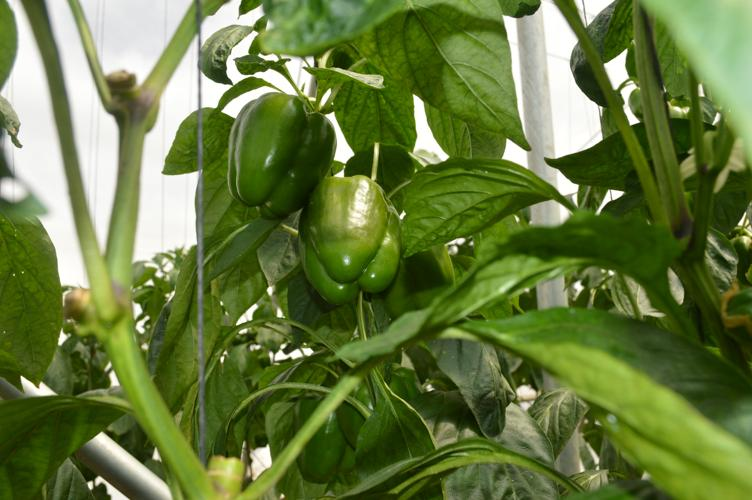BellPepper: (219, 95, 333, 221), (301, 173, 400, 306)
